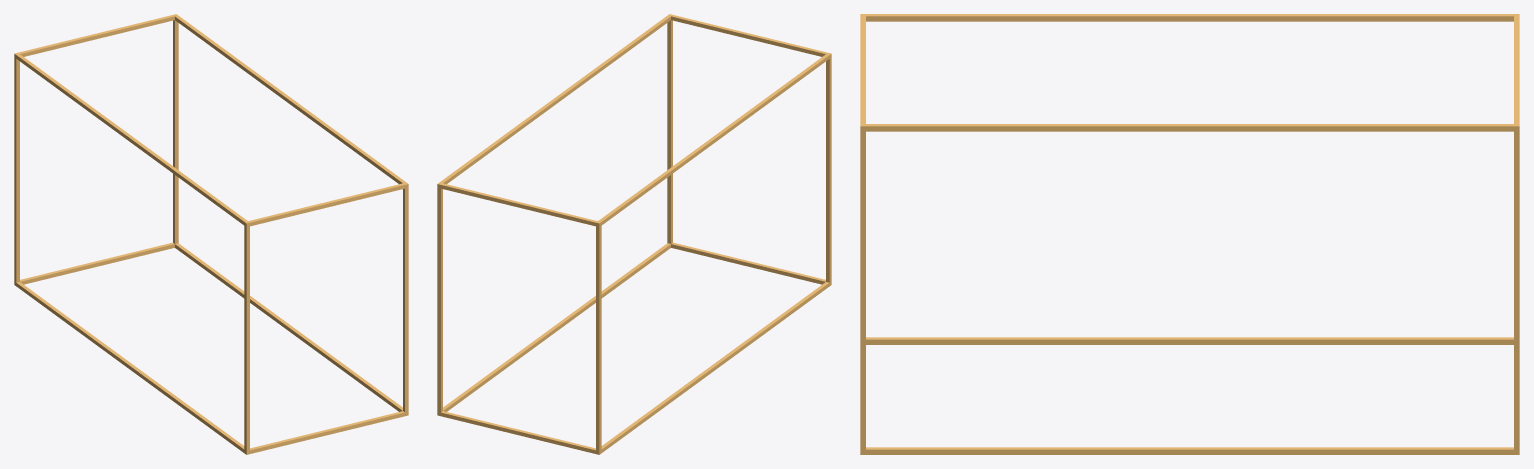
Rendered from sleds.glb.
3 views of the same model, side by side, from view 1: azimuth 30°, elevation 25°; view 2: azimuth 150°, elevation 25°; view 3: azimuth 270°, elevation 25° (orthographic). The views are drawn at different scales.
Visible parts, largest first — view 1: box_0; view 2: box_0; view 3: box_0.
Part boxes in pixels (x1=…): box_0: x1=14, y1=14, x2=408, y2=454; box_0: x1=437, y1=14, x2=831, y2=454; box_0: x1=860, y1=14, x2=1519, y2=454.
Bounding box in the file's own units: 0.4515 × 0.616 × 1.12.
